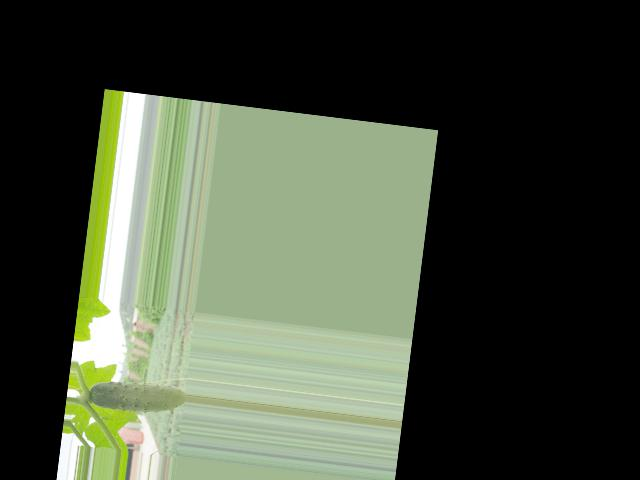cucumber: (88, 375, 187, 417)
